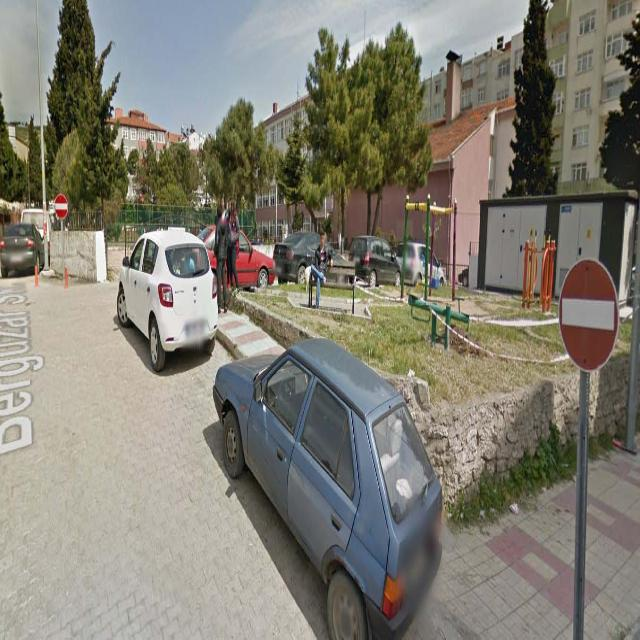girisyok: (558, 256, 618, 375), (54, 192, 66, 217)
